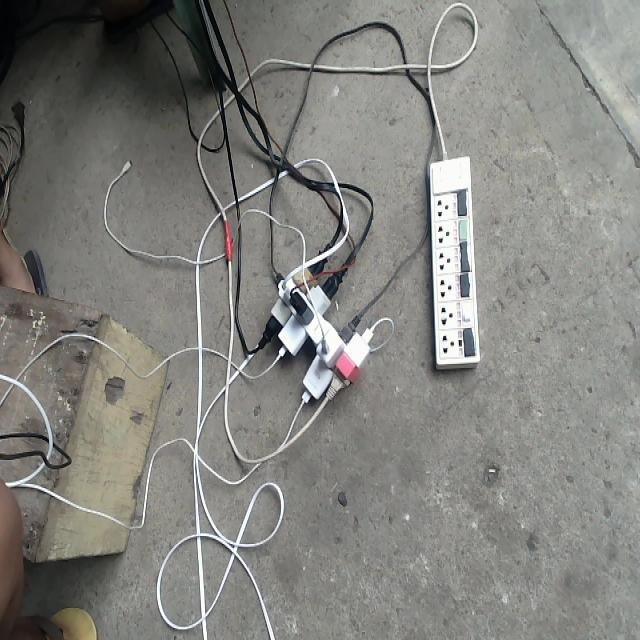-: (258, 257, 372, 400)
